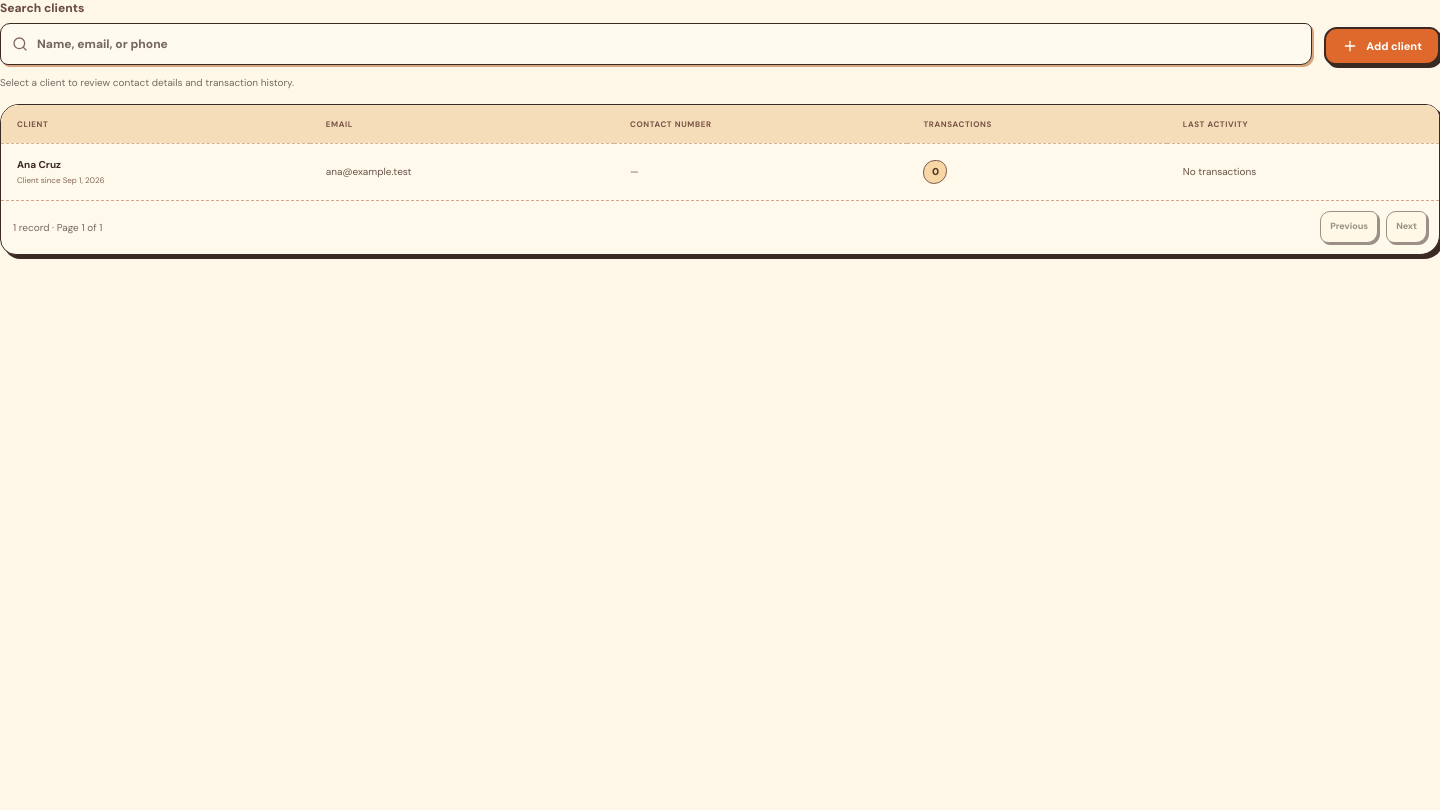
Test: Clients workflow › preserves an edit when the backend reports a duplicate
Click the button with aria-label "Open Ana Cruz details" at point(720, 171), box left=1, top=143, right=1439, bottom=200
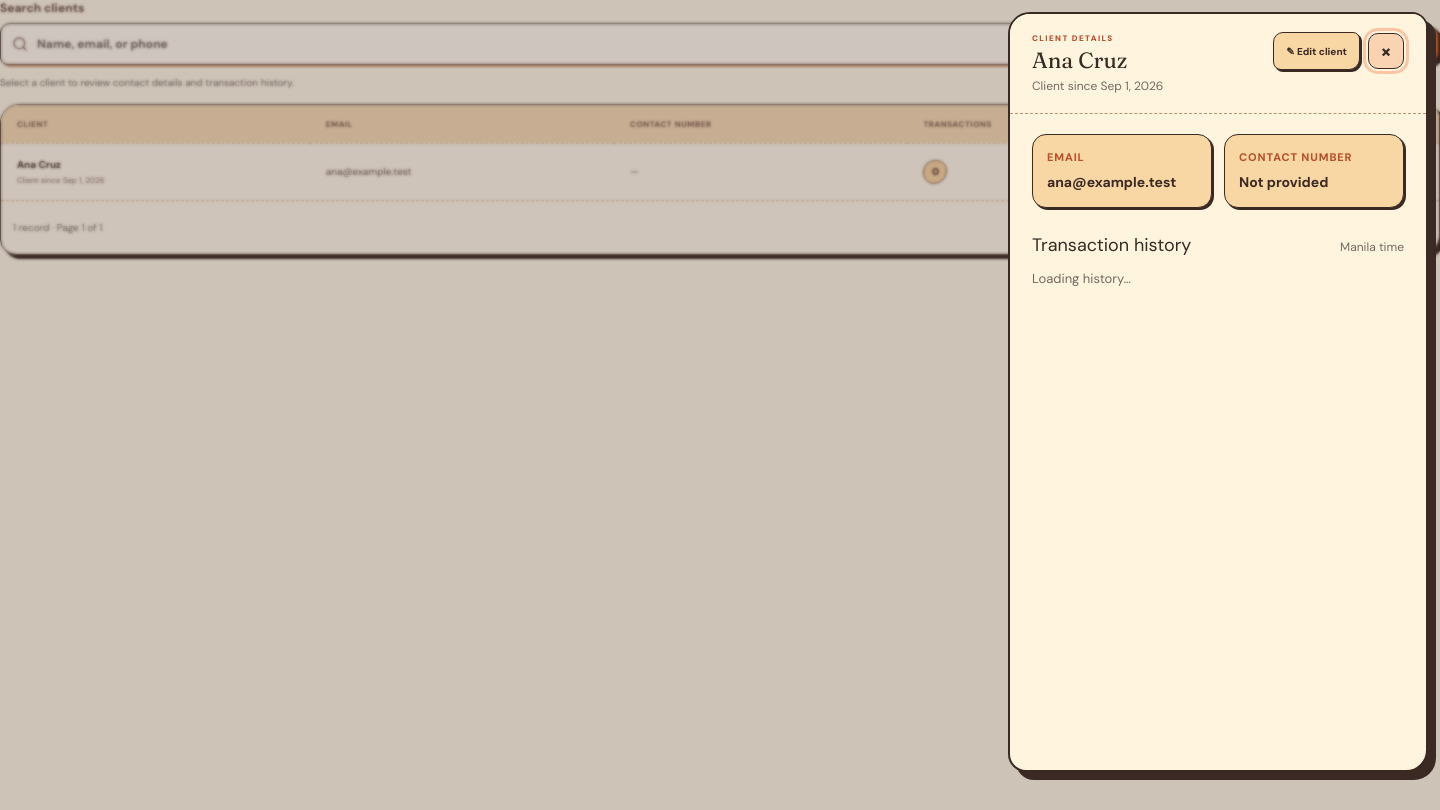
Click the button "✎ Edit client" at point(1317, 51), box left=1273, top=32, right=1360, bottom=70
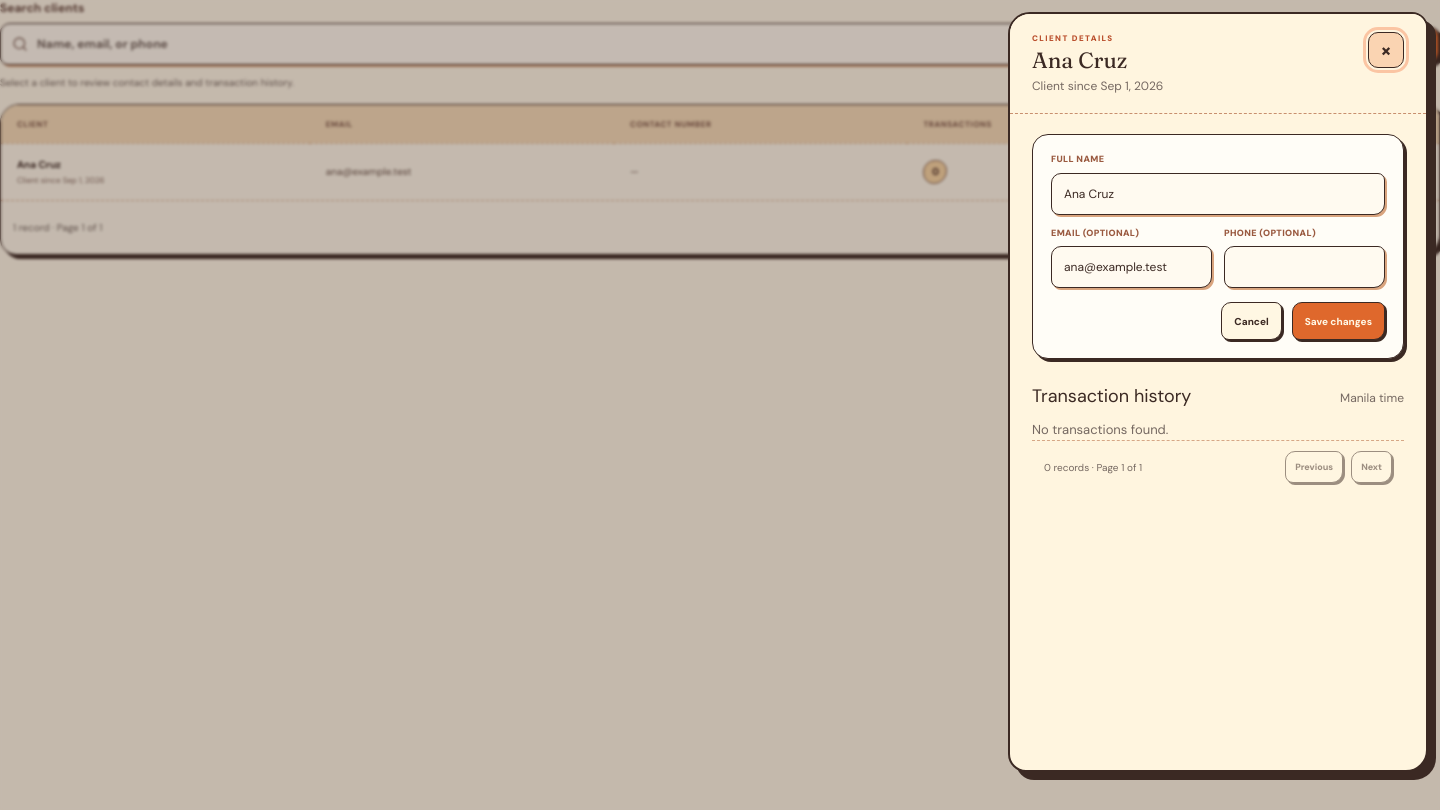
Replace the text in the field labelled "Full name" with "Existing Client" at point(1218, 194), box left=1051, top=173, right=1385, bottom=215
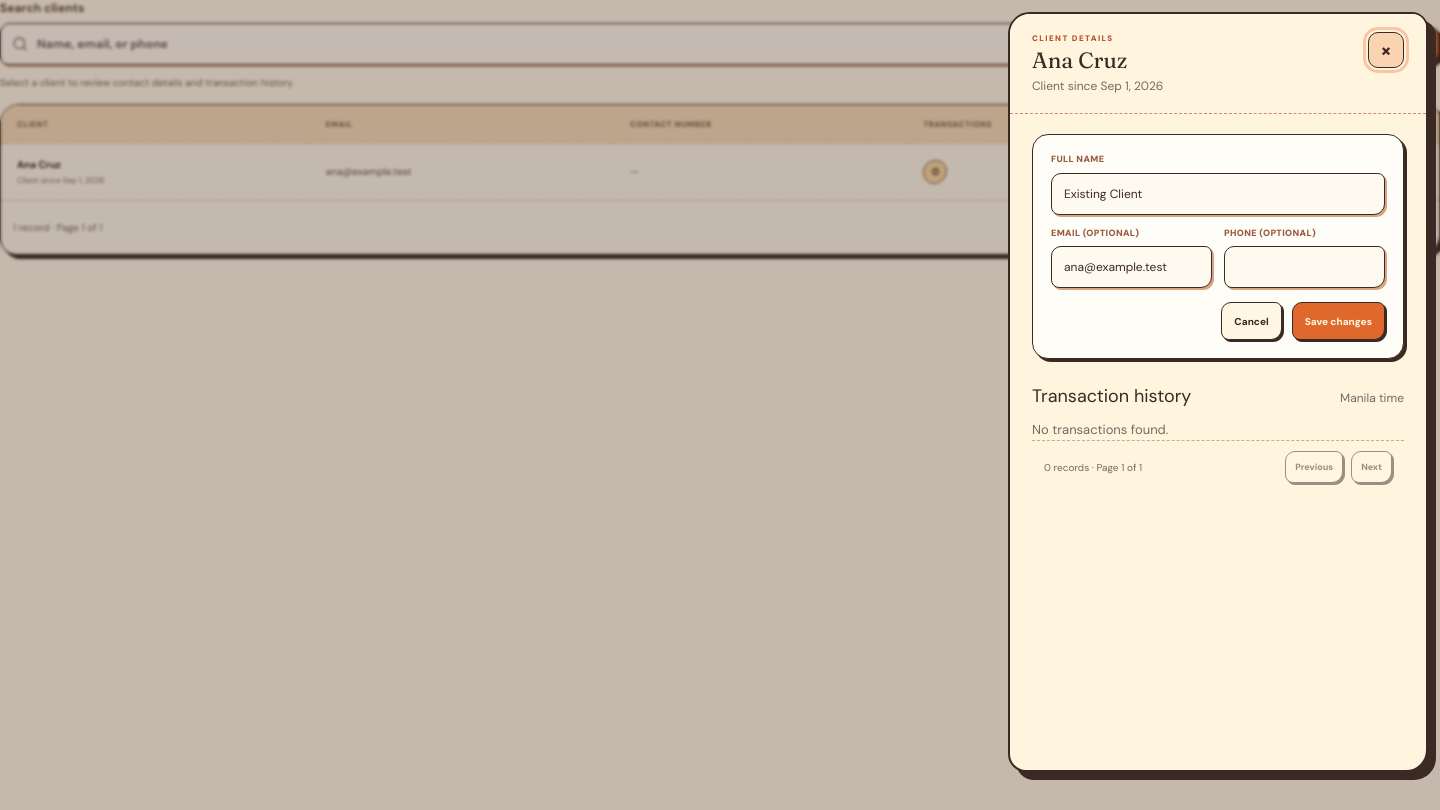
Click the button "Save changes" at point(1338, 321), box left=1292, top=302, right=1385, bottom=340
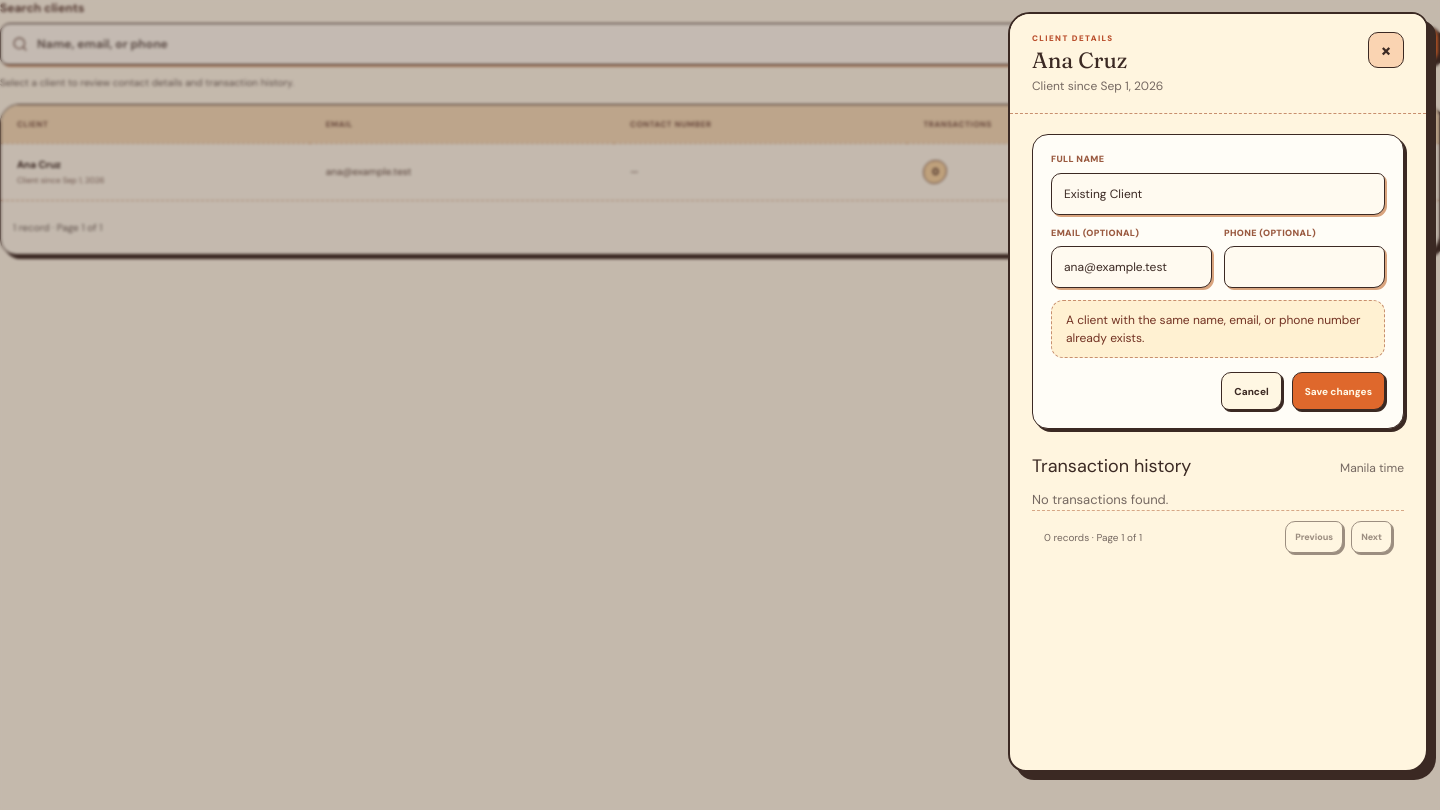
Result: the text "A client with the same name, email, or phone number already exists." is shown at left=1051, top=300, right=1385, bottom=358
